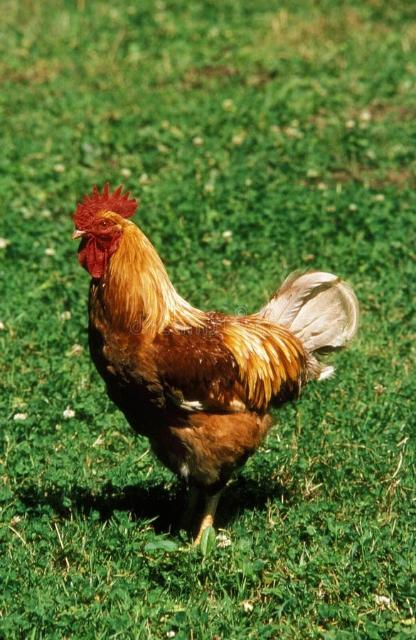Chicken: (70, 182, 360, 550)
